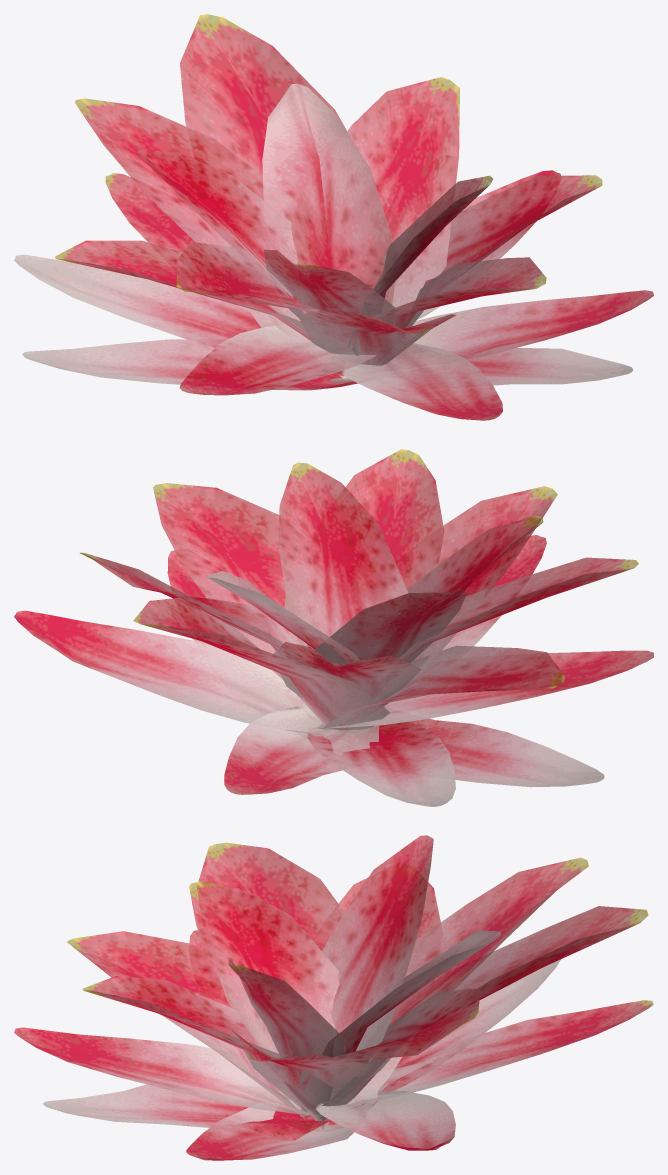
Rendered from preview.glb.
3 renders of one model, top to bottom at view 1: azimuth 30°, elevation 25°; view 2: azimuth 150°, elevation 25°; view 3: azimuth 270°, elevation 25°, orthographic. The views are drawn at different scales.
Visible parts, largest first — view 1: Lilypad_Flower_Nymphaea_alba_A_Flower_glb; view 2: Lilypad_Flower_Nymphaea_alba_A_Flower_glb; view 3: Lilypad_Flower_Nymphaea_alba_A_Flower_glb.
Boxes of the visible parts, x1,y1,x2,y2 form: Lilypad_Flower_Nymphaea_alba_A_Flower_glb: (14,14,653,420); Lilypad_Flower_Nymphaea_alba_A_Flower_glb: (14,449,653,806); Lilypad_Flower_Nymphaea_alba_A_Flower_glb: (14,835,653,1160).
Size of the model in its own units: 0.1316 by 0.0537 by 0.14.
Materials: 1 (1 with a texture image).
